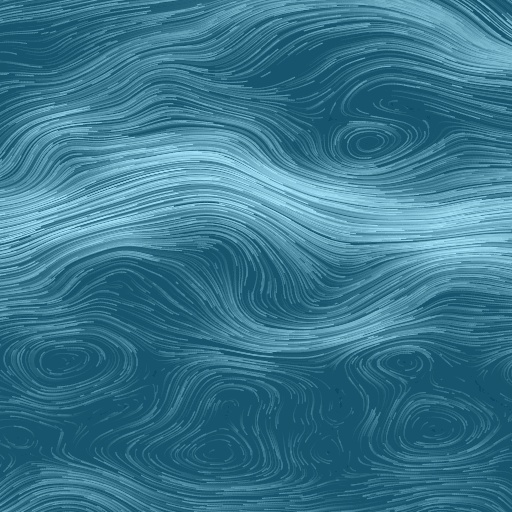eddy: (141, 379, 280, 487), (8, 333, 123, 396), (392, 393, 482, 457), (329, 118, 412, 168), (377, 345, 434, 379), (1, 419, 39, 454)
